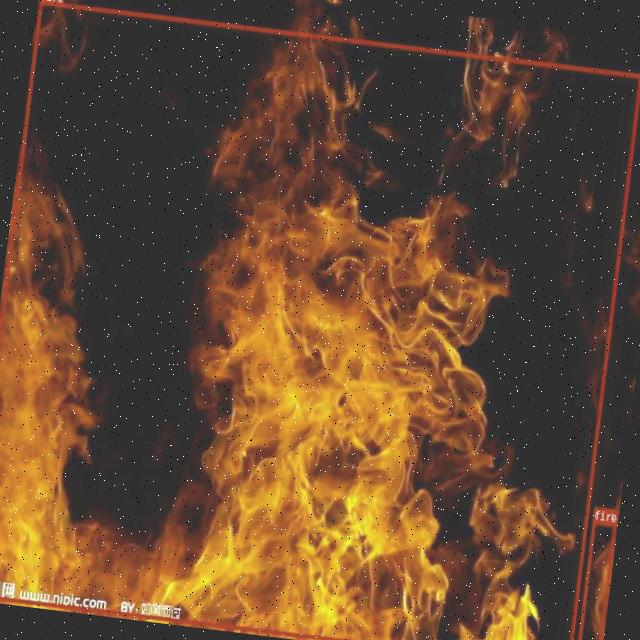fire: (0, 0, 640, 640), (576, 519, 616, 640)
